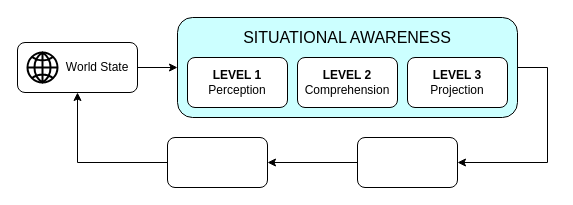
This 573x205 diagram has some shape labels left out. Each missing label, with the centre of its shape:
"Decison" belongs at (407,162).
"Performance of Actions" belongs at (217,162).
